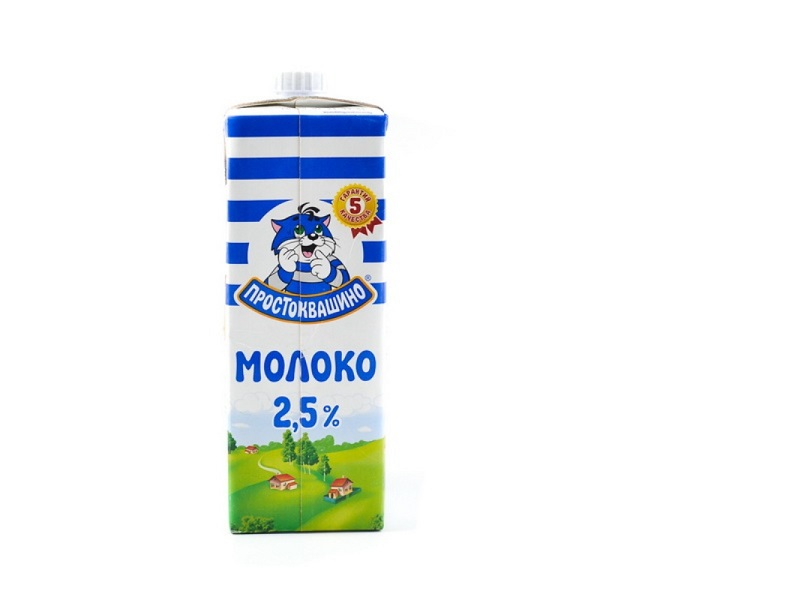milk: (181, 58, 415, 551)
